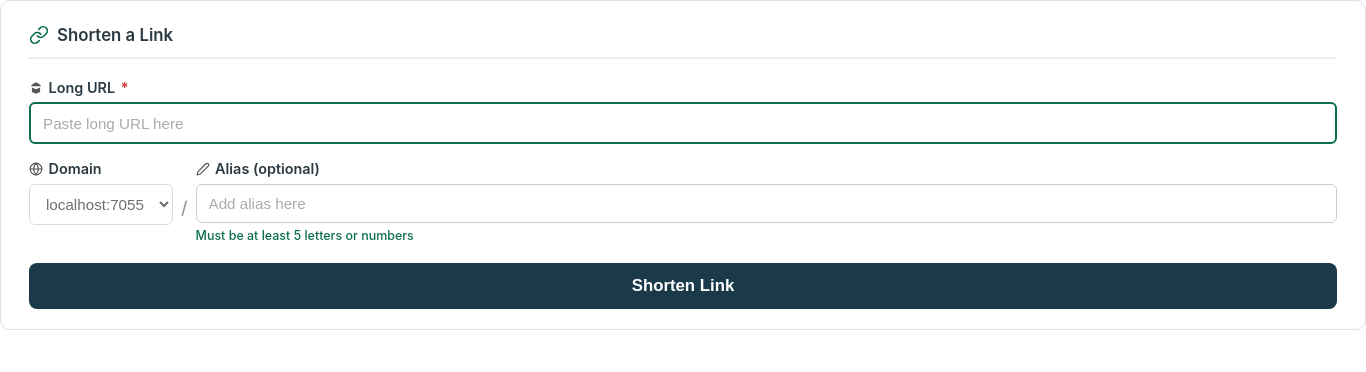
it: UrlShortenerForm › shows client-side error for invalid URL
In the field labelled "Long URL *": (683, 123) [29,102,1337,144], type "bad-url"
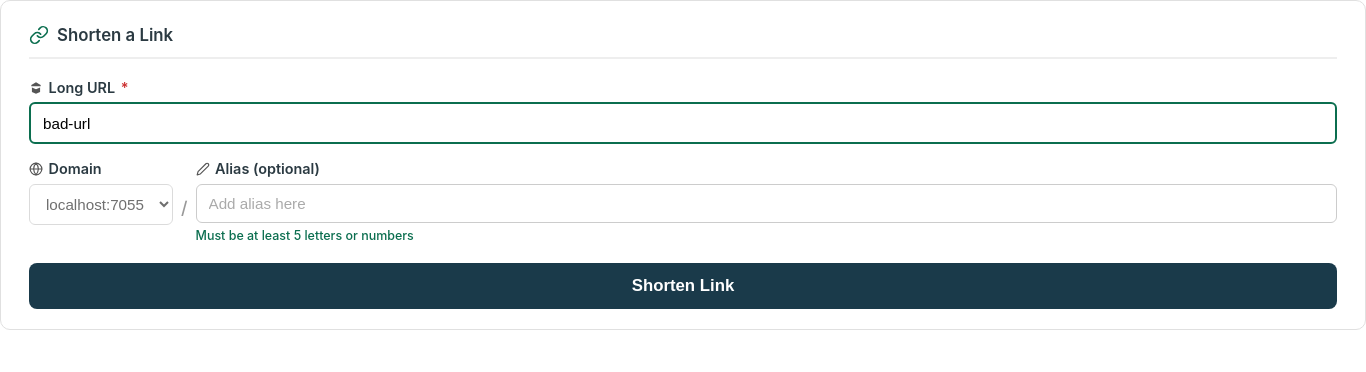
Click the button "Shorten Link": (683, 286) [29,263,1337,309]
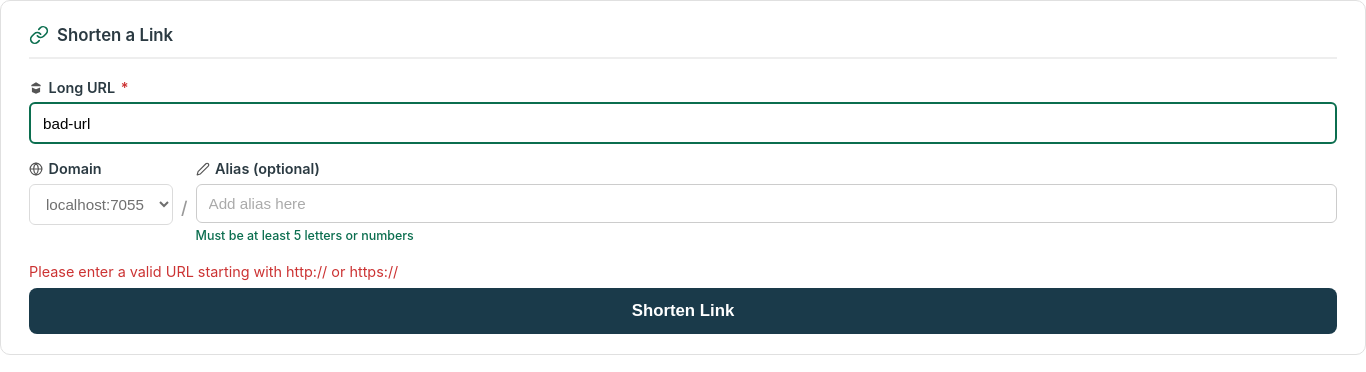
Check: the text "Please enter a valid URL starting with http:// or https://" is shown, box [29,263,398,280]
